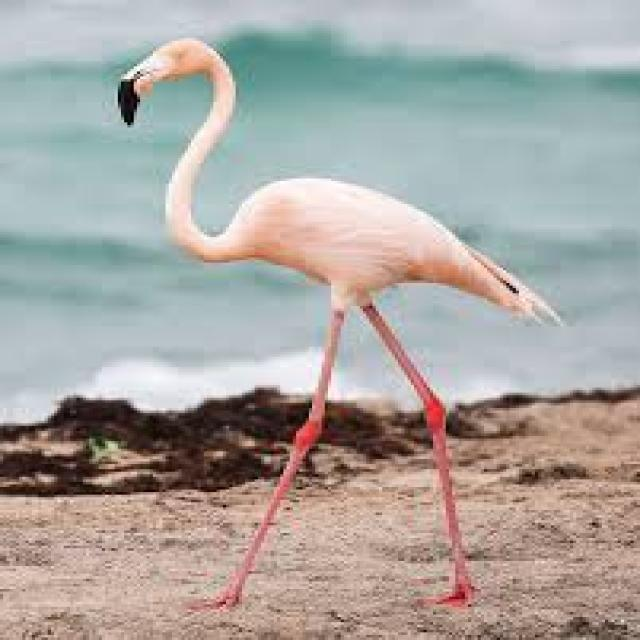Flamingo: (109, 30, 552, 616)
